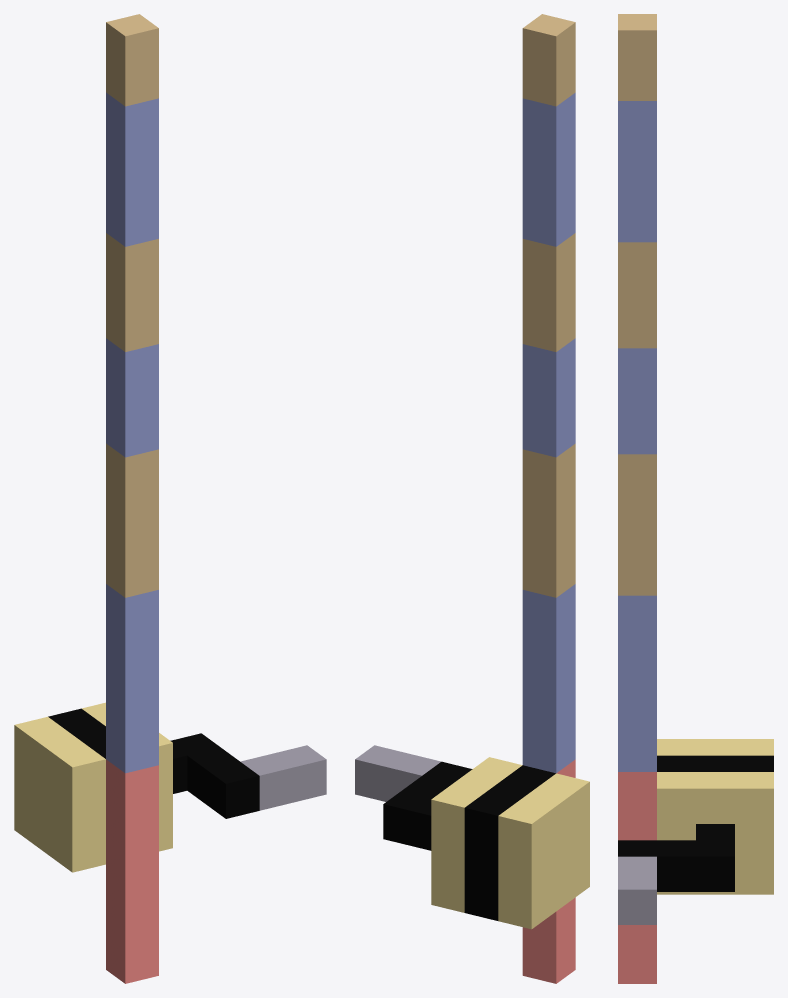
File: Caña.fbx
3 renders of one model, left to right at view 1: azimuth 30°, elevation 25°; view 2: azimuth 150°, elevation 25°; view 3: azimuth 270°, elevation 25°, orthographic.
Visible parts, largest first — view 1: caña_7x27x4; view 2: caña_7x27x4; view 3: caña_7x27x4.
Boxes of the visible parts, box(x1,y1,x2,y2) form: caña_7x27x4: box(14, 14, 326, 983); caña_7x27x4: box(355, 14, 589, 983); caña_7x27x4: box(618, 14, 773, 983).
Bounding box in the file's own units: 269 × 1038 × 154.
